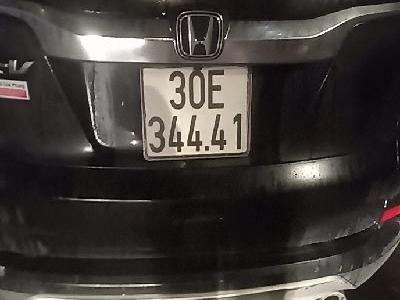number: (142, 64, 251, 158)
